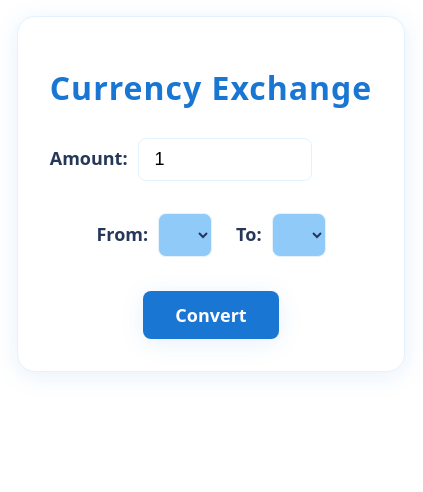
Scenario: CurrencyExchange › converts the entered amount and shows the result correctly
This screenshot has width=423, height=492.
Replace the text in the number field labelled "Amount:" with "100" at [225, 159], box [138,138,312,181]
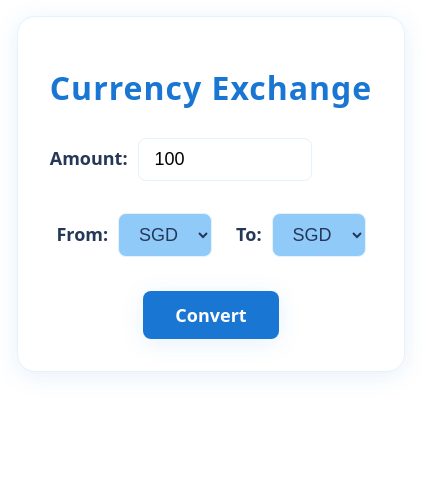
Select "SGD" in the dropdown labelled "From:" at [165, 235], box [118,213,212,257]
Select "USD" in the dropdown labelled "To:" at [318, 235], box [272,213,366,257]
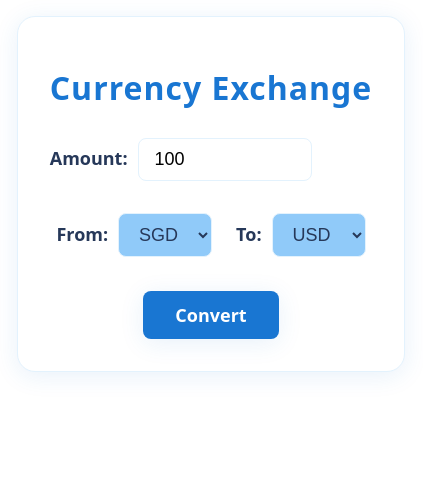
Click the button "Convert" at [211, 315], box [143,291,279,339]
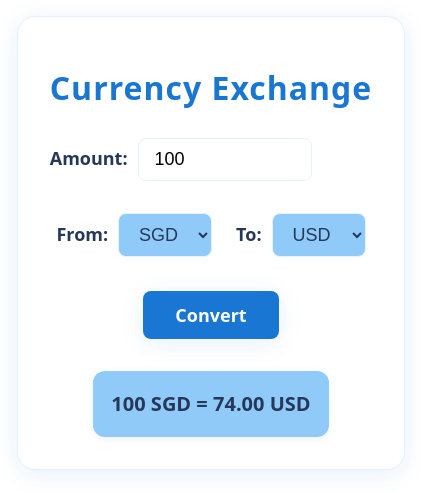
Result: the text "100 SGD = 74.00 USD" is shown at [93,371,329,437]
